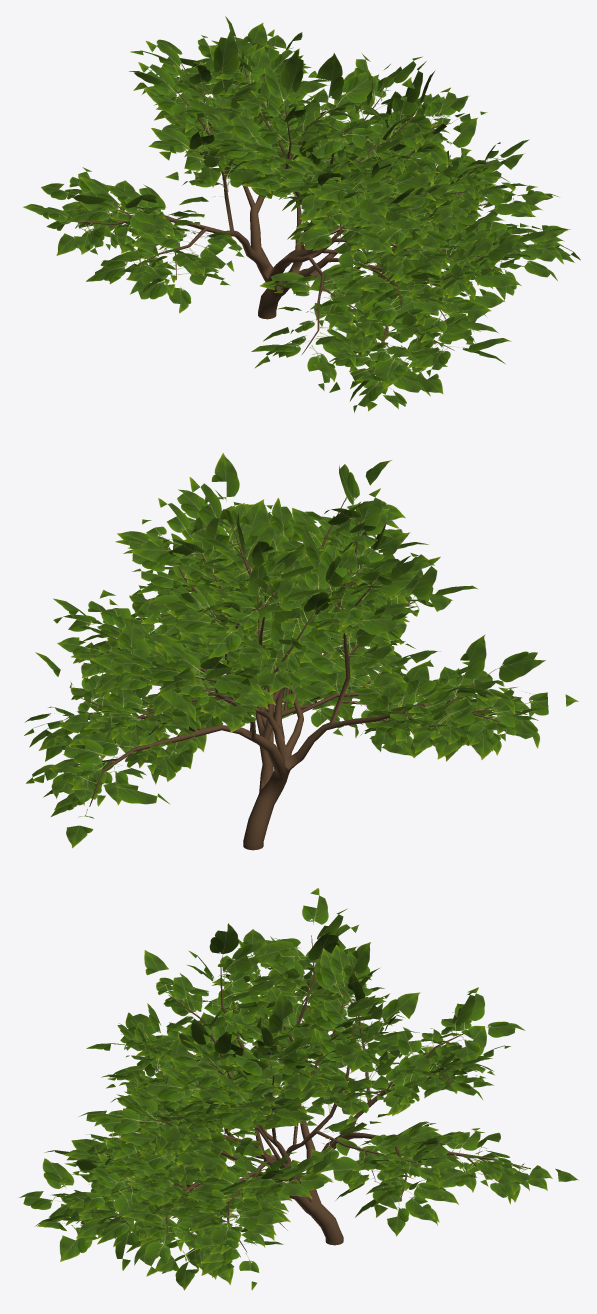
File: hedge_web.glb
The picture shows the model from 3 angles, top to bottom: view 1: azimuth 30°, elevation 25°; view 2: azimuth 150°, elevation 25°; view 3: azimuth 270°, elevation 25°; orthographic projection. The views are drawn at different scales.
Visible parts, largest first — view 1: PILOT_HEDGE_LEAVES_CC0, PILOT_HEDGE_BRANCHES_CC0; view 2: PILOT_HEDGE_LEAVES_CC0, PILOT_HEDGE_BRANCHES_CC0; view 3: PILOT_HEDGE_LEAVES_CC0, PILOT_HEDGE_BRANCHES_CC0.
Boxes of the visible parts, x1,y1,x2,y2 form: PILOT_HEDGE_LEAVES_CC0: (23, 16, 580, 412); PILOT_HEDGE_BRANCHES_CC0: (76, 63, 510, 363); PILOT_HEDGE_LEAVES_CC0: (24, 453, 578, 848); PILOT_HEDGE_BRANCHES_CC0: (63, 497, 500, 850); PILOT_HEDGE_LEAVES_CC0: (19, 888, 578, 1290); PILOT_HEDGE_BRANCHES_CC0: (80, 935, 530, 1252).
Size of the model in its own units: 1.25 by 0.7617 by 1.25.
2 materials, 1 textured.
